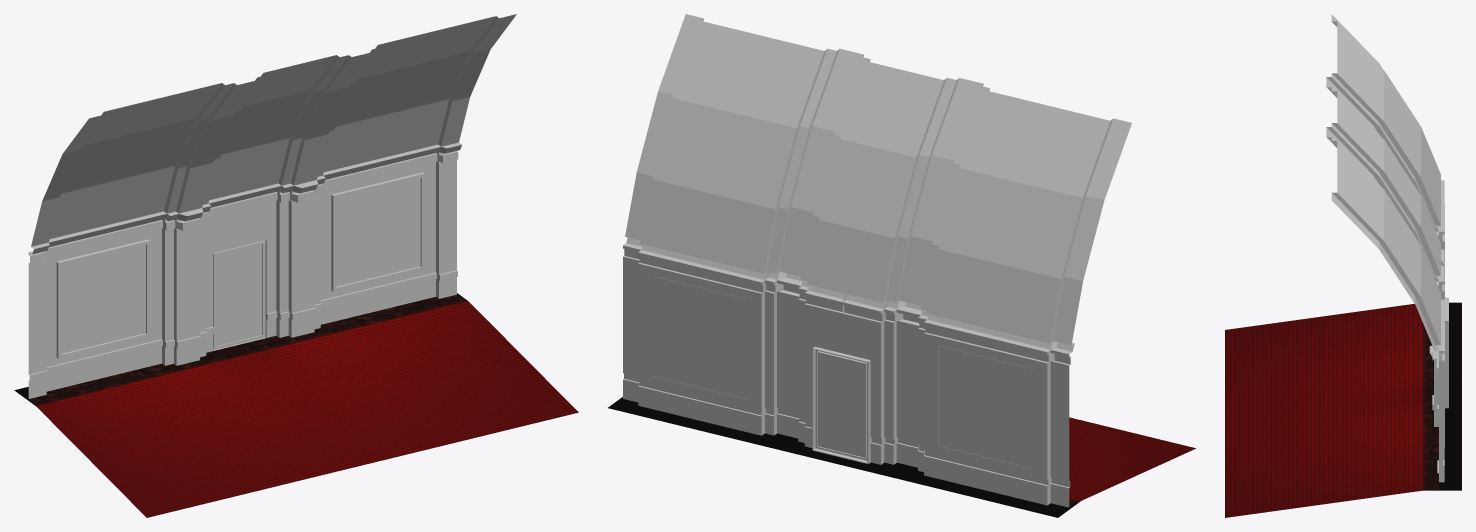
The model's file is background_1.fbx.
3 renders of one model, left to right at view 1: azimuth 30°, elevation 25°; view 2: azimuth 150°, elevation 25°; view 3: azimuth 270°, elevation 25°, orthographic. The views are drawn at different scales.
Visible parts, largest first — view 1: wall, floor; view 2: wall, floor; view 3: floor, wall.
Part boxes in pixels (x1,y1,x2,y2): wall: [28, 14, 516, 398]; floor: [14, 293, 578, 517]; wall: [623, 14, 1131, 507]; floor: [608, 397, 1195, 517]; floor: [1225, 302, 1461, 517]; wall: [1326, 14, 1448, 482].
Size of the model in its own units: 1615 by 1269 by 860.
